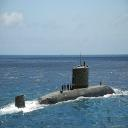submarine: (16, 66, 116, 111)
